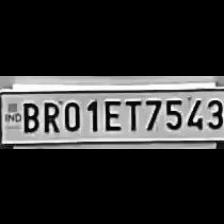0: (60, 97, 82, 132)
1: (82, 97, 100, 132)
3: (202, 94, 222, 128)
4: (183, 94, 203, 130)
5: (161, 94, 183, 130)
7: (140, 96, 160, 130)
B: (19, 99, 40, 133)
E: (100, 96, 122, 132)
R: (40, 98, 60, 134)
T: (122, 96, 142, 130)
